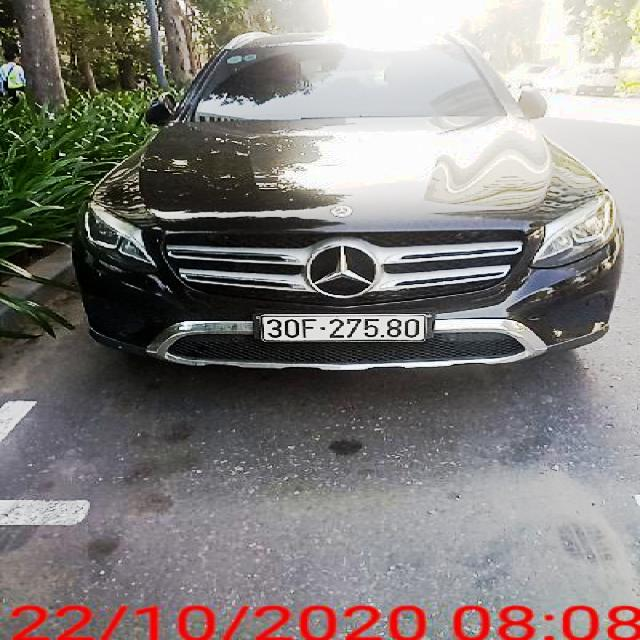license_plate: (263, 315, 426, 341)
